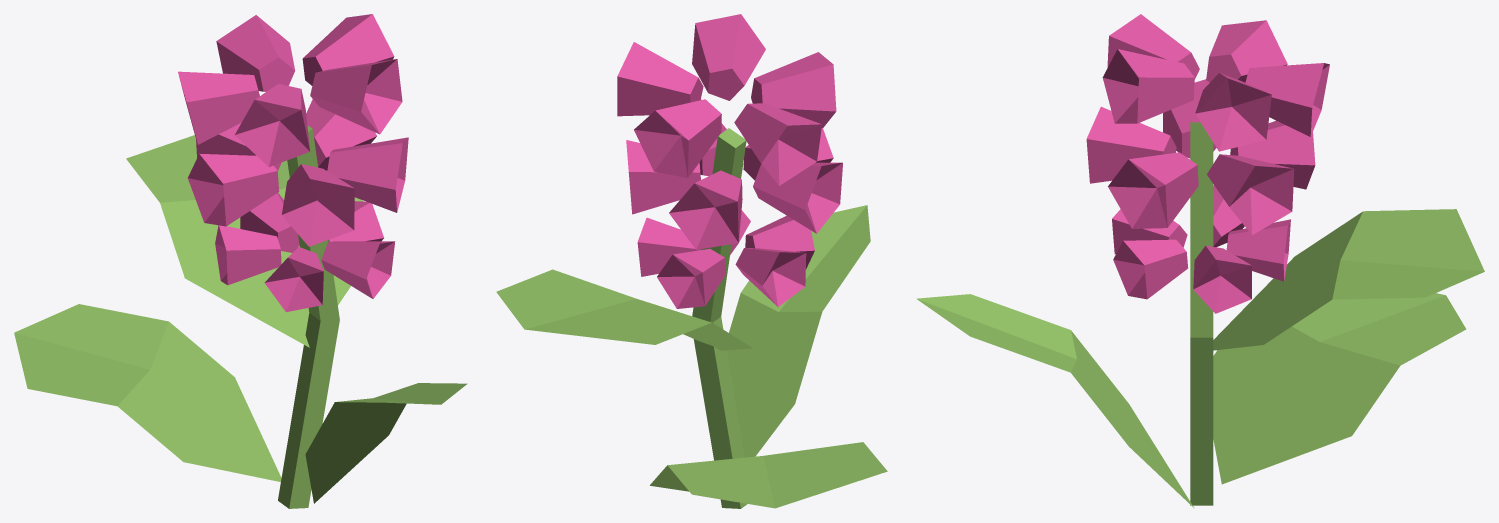
File: flower_2.glb
The picture shows the model from 3 angles, left to right: view 1: azimuth 30°, elevation 25°; view 2: azimuth 150°, elevation 25°; view 3: azimuth 270°, elevation 25°; orthographic projection. The views are drawn at different scales.
Visible parts, largest first — view 1: Cube; view 2: Cube; view 3: Cube.
Boxes of the visible parts, left/top/right/bottom form: Cube: left=14, top=14, right=467, bottom=508; Cube: left=496, top=14, right=887, bottom=508; Cube: left=916, top=14, right=1484, bottom=508.
Size of the model in its own units: 0.4255 by 0.5444 by 0.5969.
